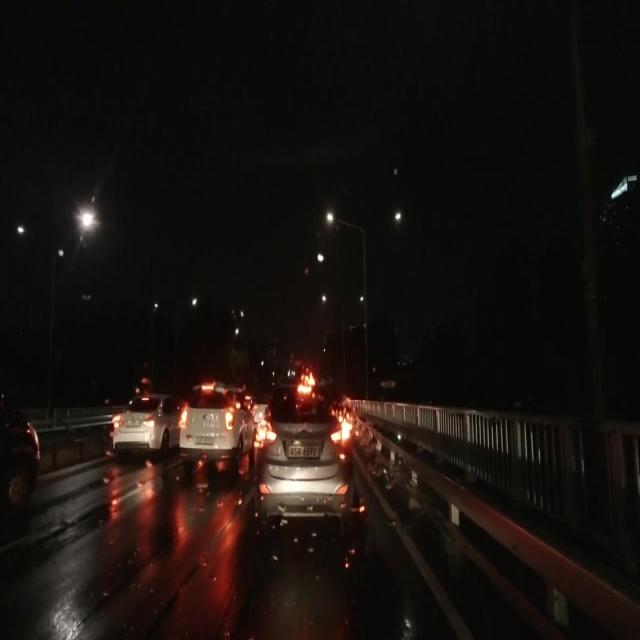Car: (257, 385, 352, 531), (179, 380, 253, 465), (108, 395, 177, 457)
